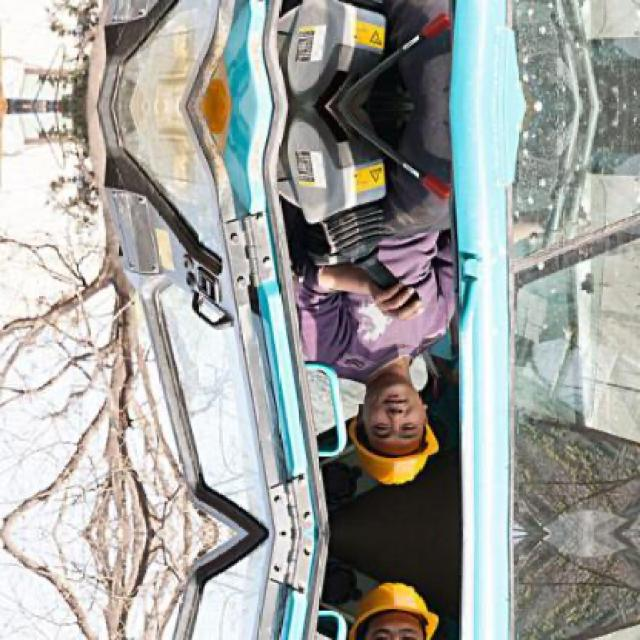safetyhelmet: (344, 378, 444, 494)
